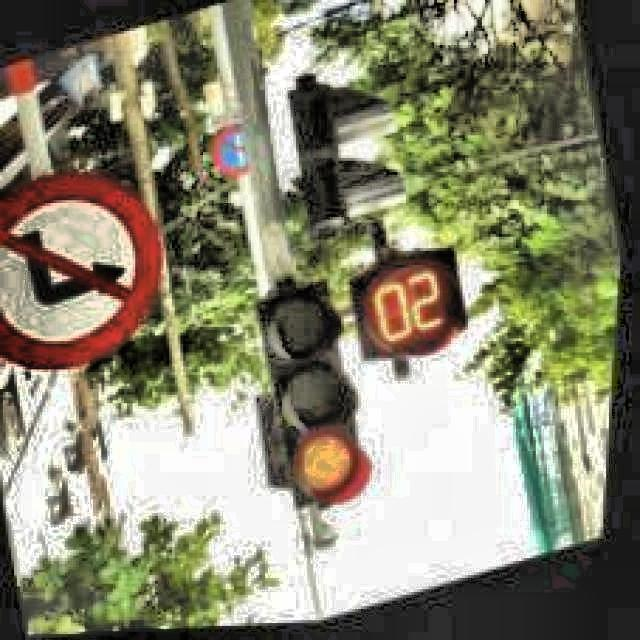red: (241, 275, 402, 526)
